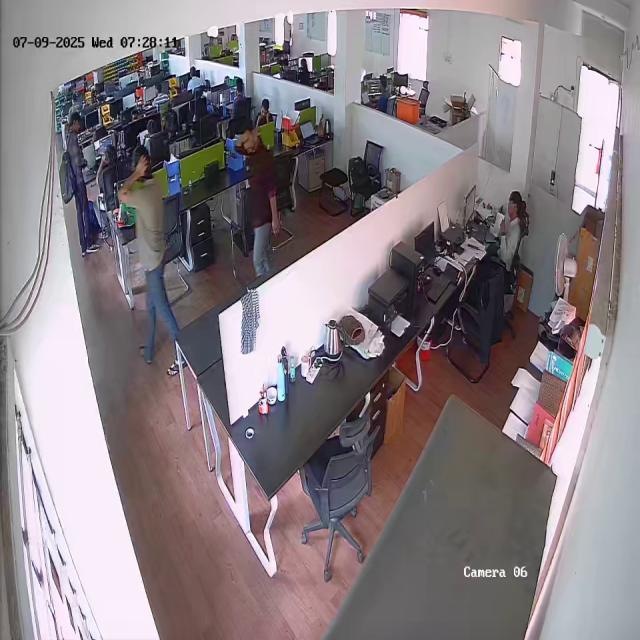person: (116, 146, 185, 376), (228, 119, 282, 282), (60, 110, 98, 256), (496, 190, 524, 260)
